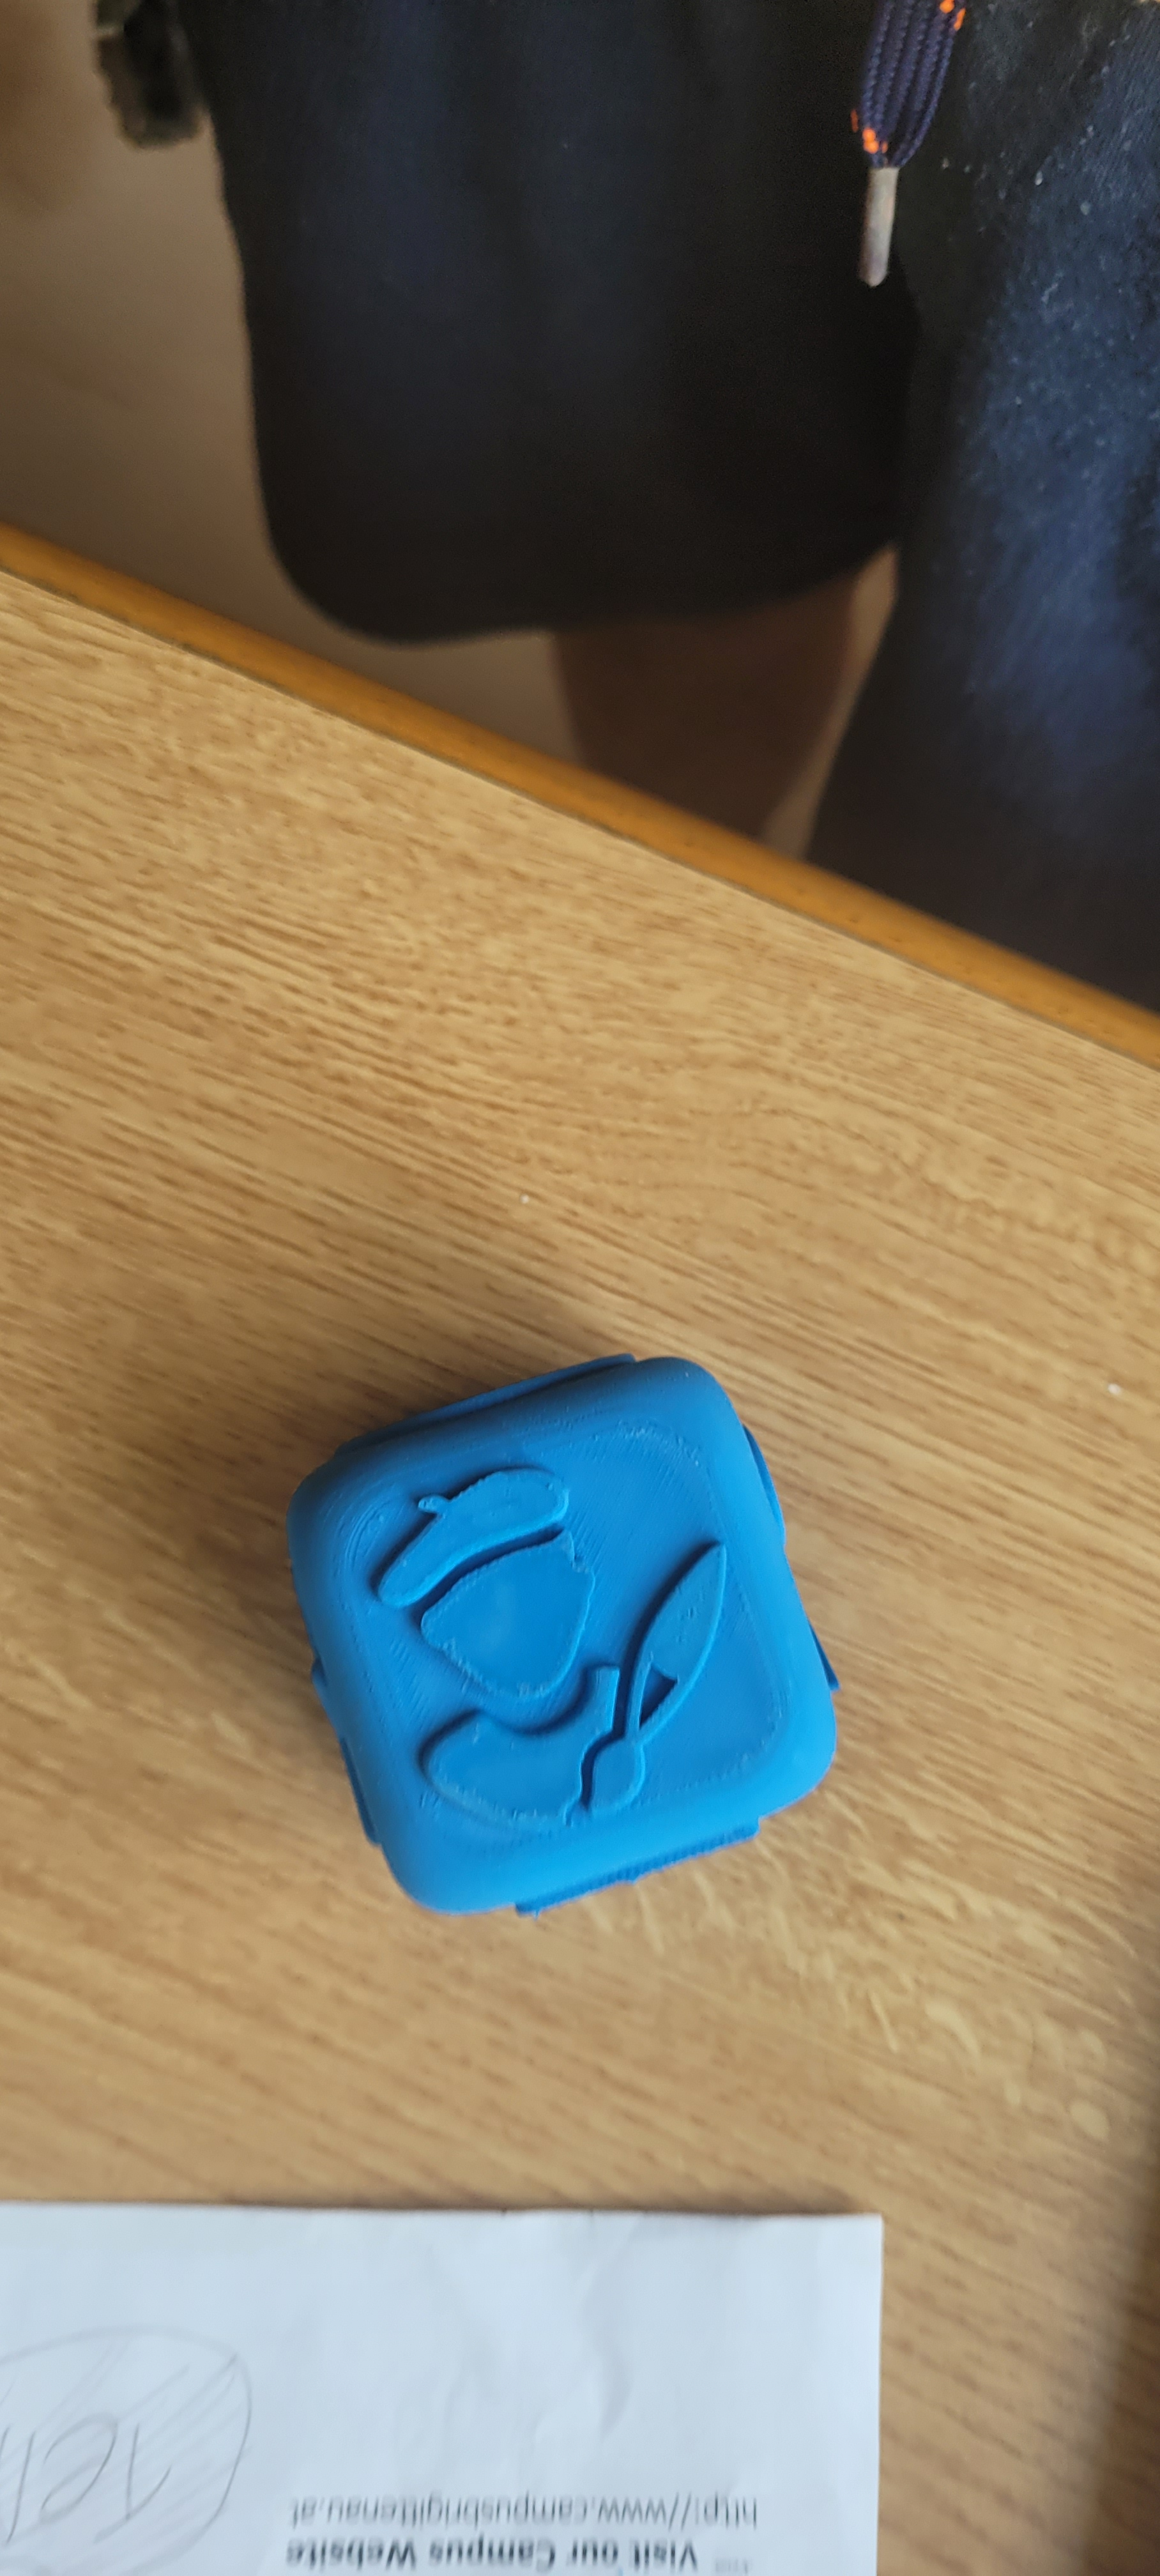Artist_Info: (278, 1477, 881, 1865)
